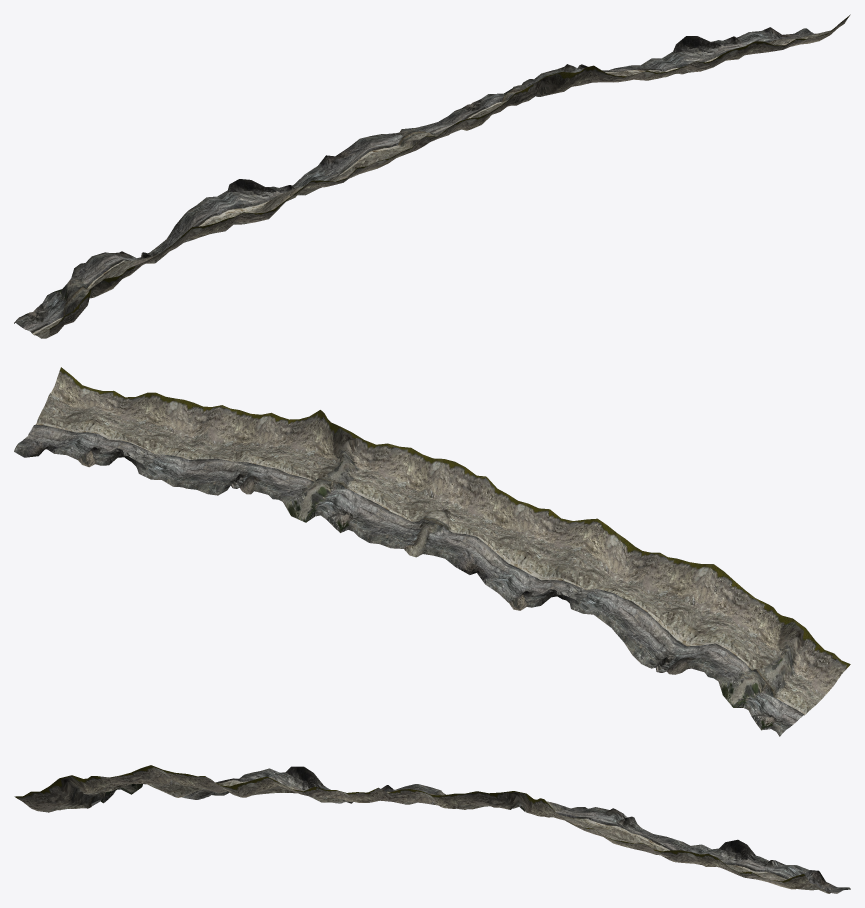
File: cliff01.glb
3 views of the same model, one above another, from view 1: azimuth 30°, elevation 25°; view 2: azimuth 150°, elevation 25°; view 3: azimuth 330°, elevation 25° (orthographic). The views are drawn at different scales.
Size of the model in its own units: 9804 by 1966 by 1173.
Materials: 5 (5 with a texture image).
